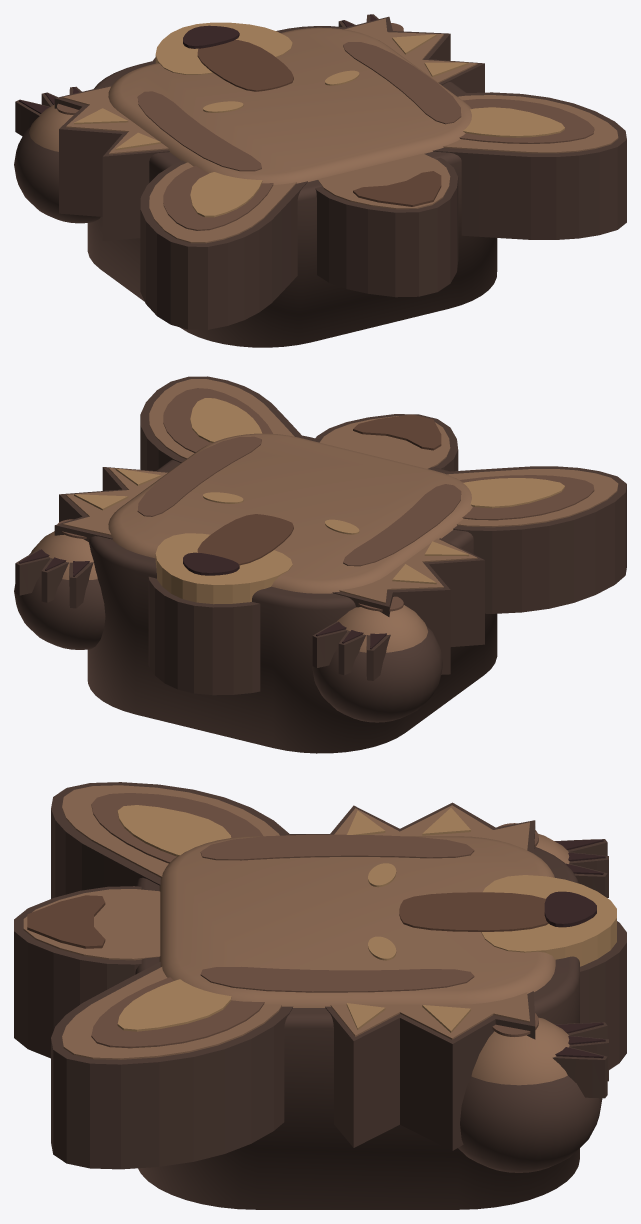
Rendered from body_coiote.fbx.
3 views of the same model, one above another, from view 1: azimuth 30°, elevation 25°; view 2: azimuth 150°, elevation 25°; view 3: azimuth 270°, elevation 25° (orthographic). The views are drawn at different scales.
Visible parts, largest first — view 1: body_coiote_corpo, body_coiote_mao_esq; view 2: body_coiote_corpo, body_coiote_mao_esq, body_coiote_mao; view 3: body_coiote_corpo, body_coiote_mao, body_coiote_mao_esq.
Part boxes in pixels (x1,y1,x2,y2): body_coiote_corpo: (54,16,626,347); body_coiote_mao_esq: (14,86,100,223); body_coiote_corpo: (54,376,626,753); body_coiote_mao_esq: (312,596,442,722); body_coiote_mao: (14,519,105,649); body_coiote_corpo: (14,782,626,1209); body_coiote_mao: (458,1013,608,1172); body_coiote_mao_esq: (497,823,608,897).
Size of the model in its own units: 6.01 by 2.07 by 5.51.
1 material, 1 textured.
